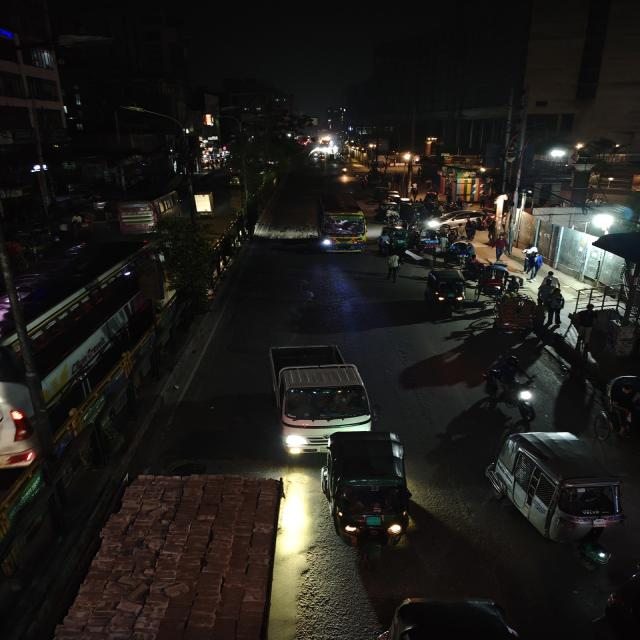bus: (0, 233, 167, 476), (263, 341, 377, 458), (108, 185, 184, 235), (312, 189, 369, 254)
cng: (489, 428, 629, 546), (320, 430, 413, 551), (374, 592, 531, 640), (424, 268, 470, 308), (378, 226, 412, 256)
motorcycle: (481, 353, 538, 415)
pedestrian: (542, 291, 564, 327), (521, 242, 540, 278), (539, 270, 560, 296), (492, 232, 510, 262), (384, 253, 403, 280), (527, 249, 544, 278)
pickup_van: (61, 464, 291, 640)
rickshaw: (488, 295, 540, 337), (408, 227, 445, 259)
